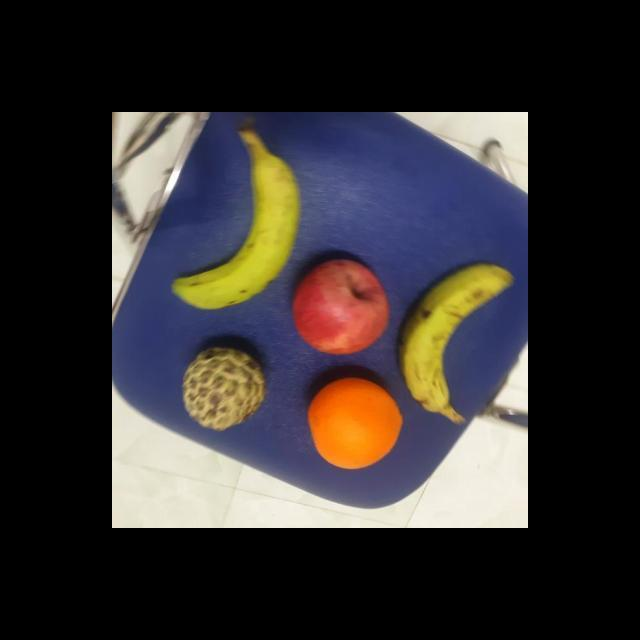Sakya fruit: (180, 345, 267, 433)
apple: (292, 256, 393, 357)
banana: (170, 152, 300, 316), (398, 262, 518, 414)
orange: (304, 377, 404, 472)
